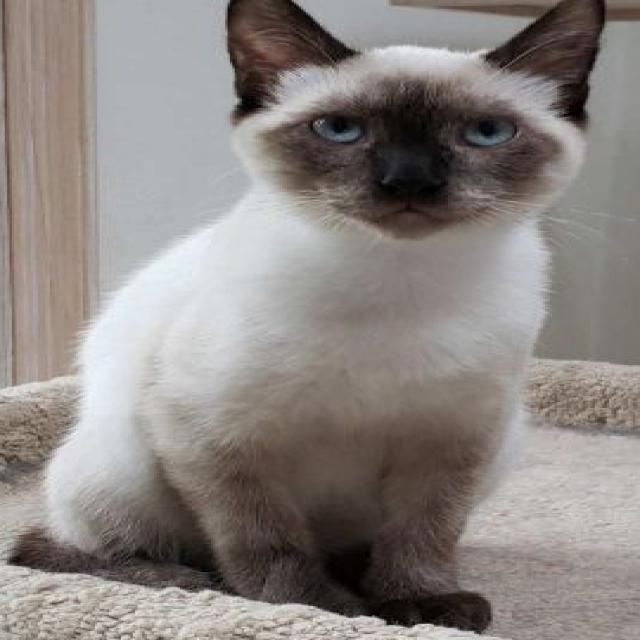Siamese: (0, 0, 616, 632)
